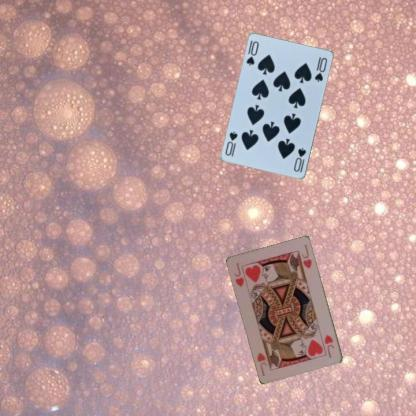10s: (292, 145, 308, 174), (244, 39, 260, 67)
Jh: (232, 260, 250, 289), (322, 332, 336, 360)
